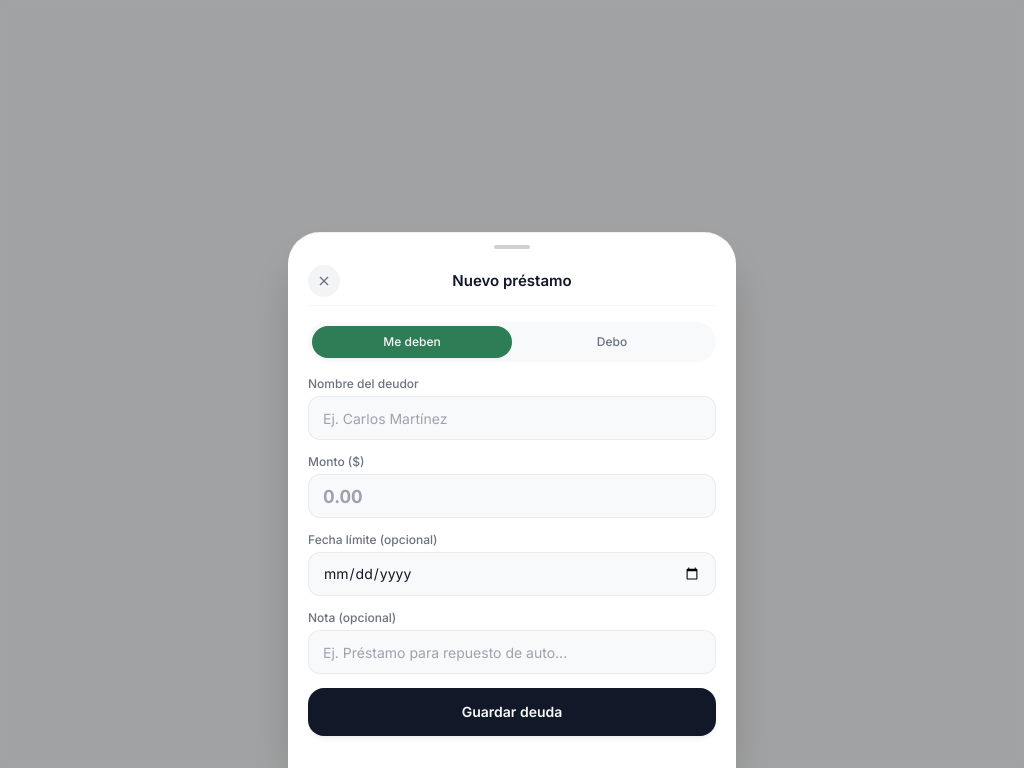
Scenario: DebtModal › cambia el título al registrar una deuda contraída
Click the button "Debo": click(612, 342) x1=512 y1=326 x2=712 y2=358
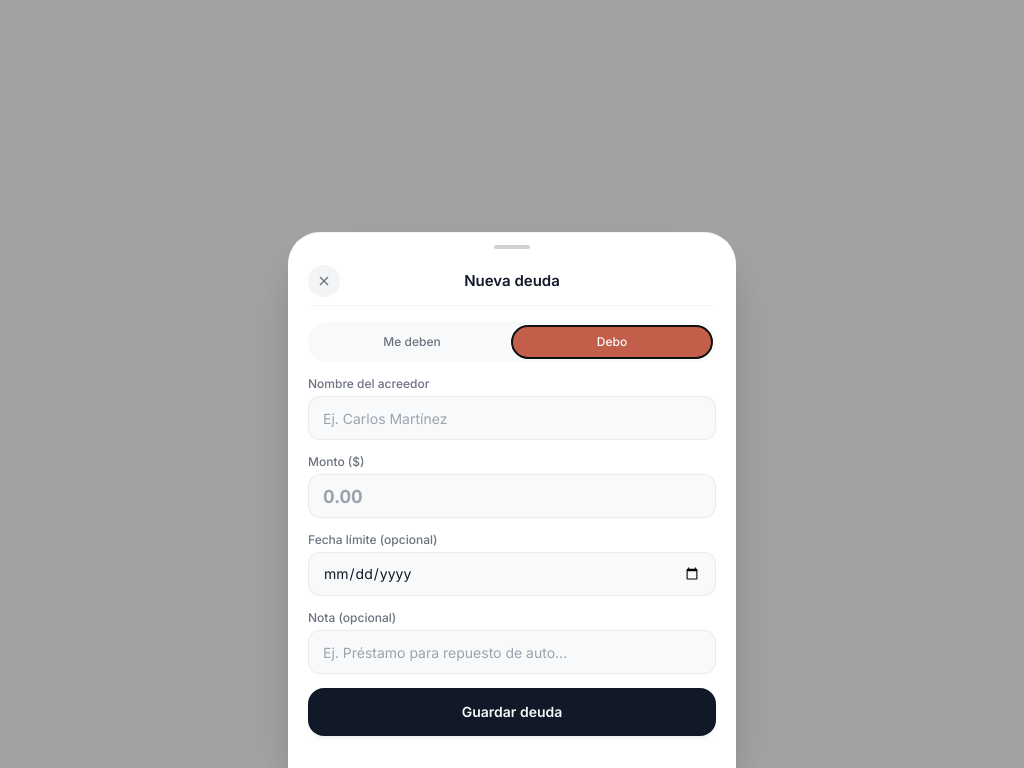
Now the heading "Nueva deuda" is shown, box x1=464 y1=270 x2=560 y2=292
